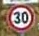limite 30: (5, 3, 35, 32)
